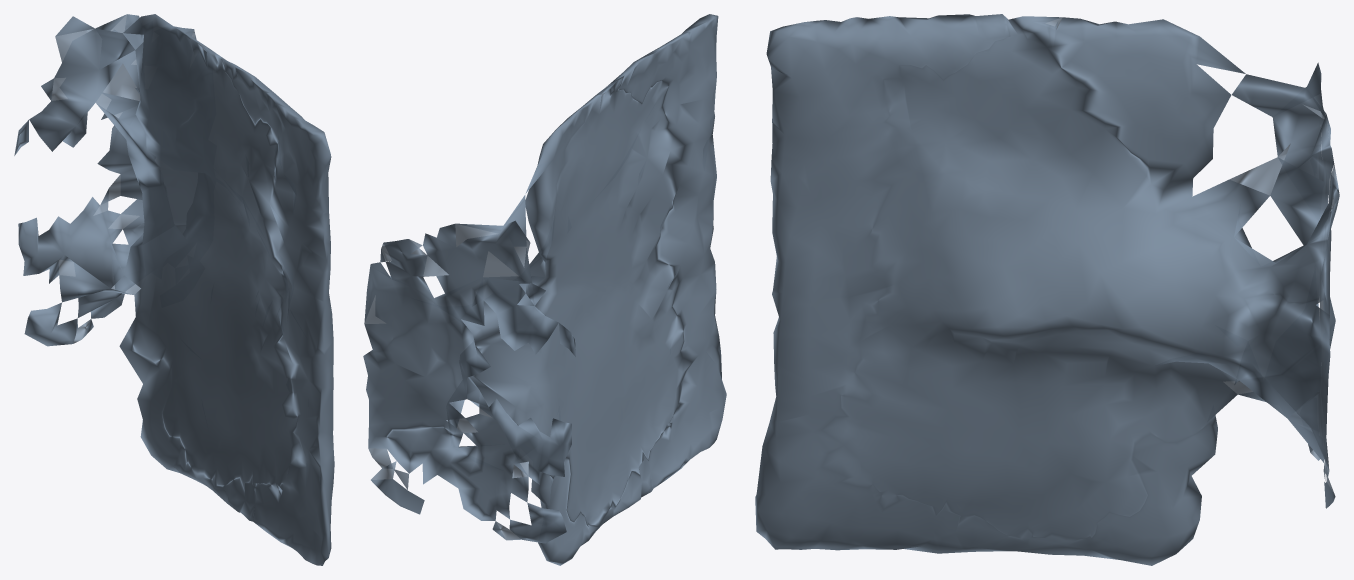
File: monitor_0038_recon.obj
The picture shows the model from 3 angles, left to right: view 1: azimuth 30°, elevation 25°; view 2: azimuth 150°, elevation 25°; view 3: azimuth 270°, elevation 25°; orthographic projection. The views are drawn at different scales.
Size of the model in its own units: 0.6909 by 1.44 by 1.39.
